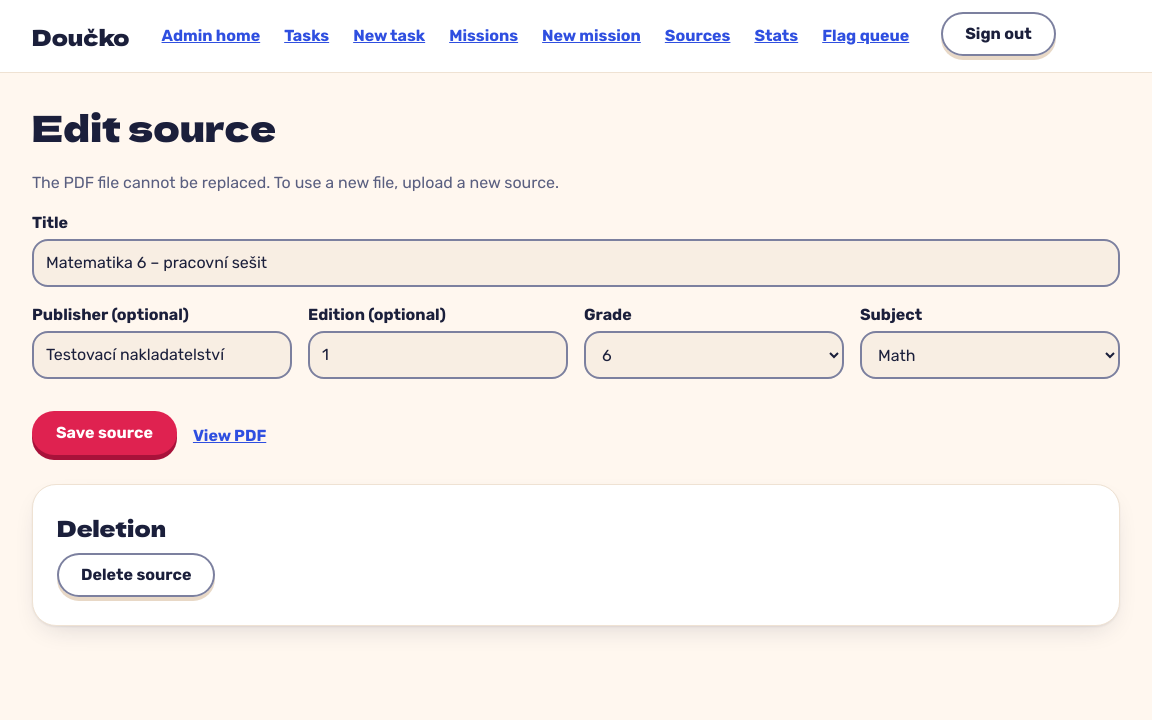
Test: source metadata edit (FR-55) › clears an optional field by sending null
Expected: the heading "Edit source" is shown, [32,100,276,152]
Expected: the field showing "Matematika 6 – pracovní sešit" is shown, [32,239,1120,287]
Clear the field labelled "Publisher (optional)": (162, 355) [32,331,292,379]
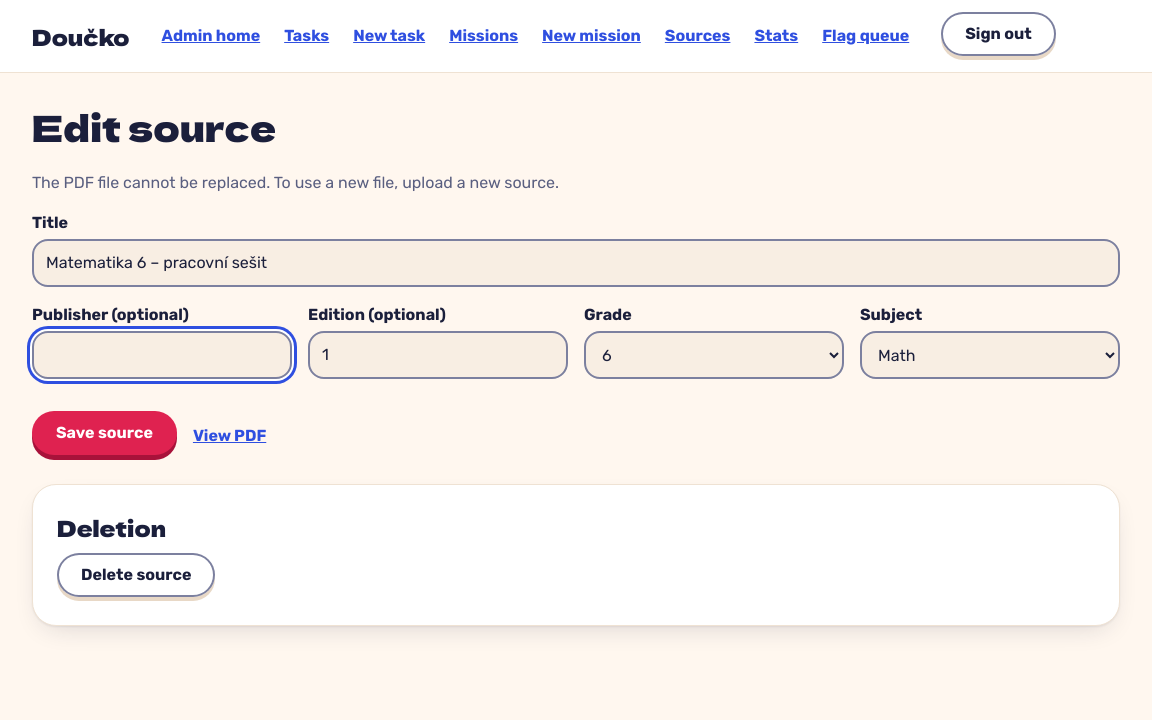
Click the button "Save source": (104, 433) [32,411,177,455]
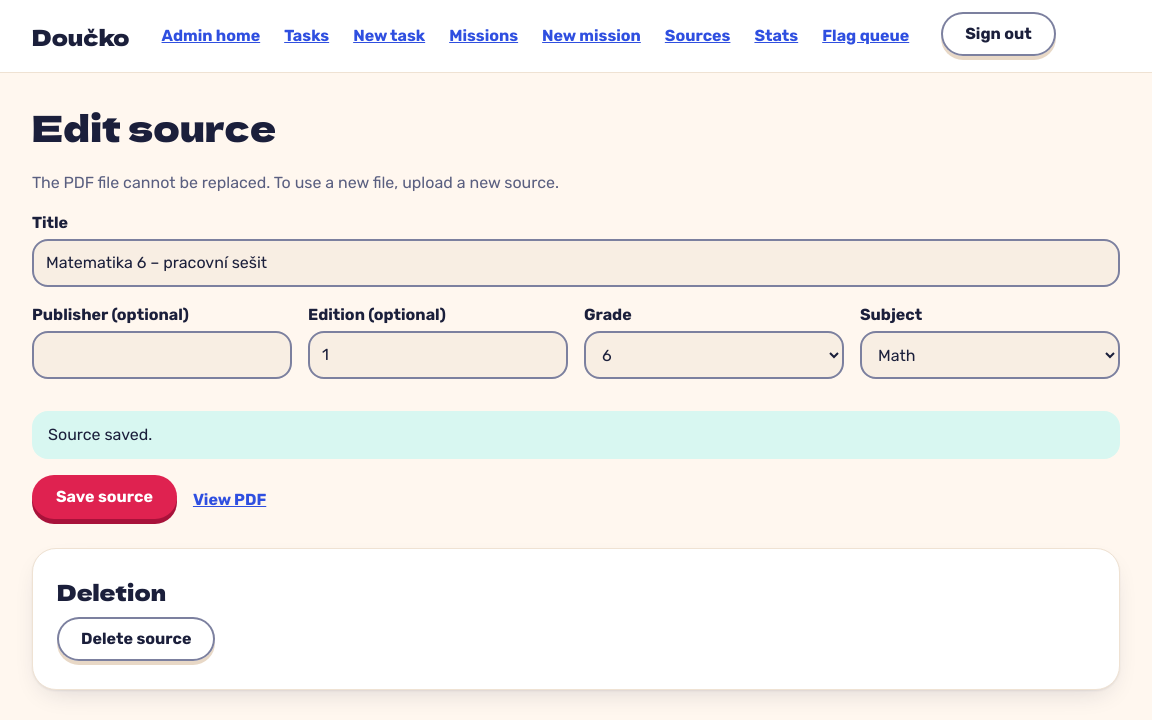
Expected: the text "Source saved." is shown, [32,411,1120,459]
